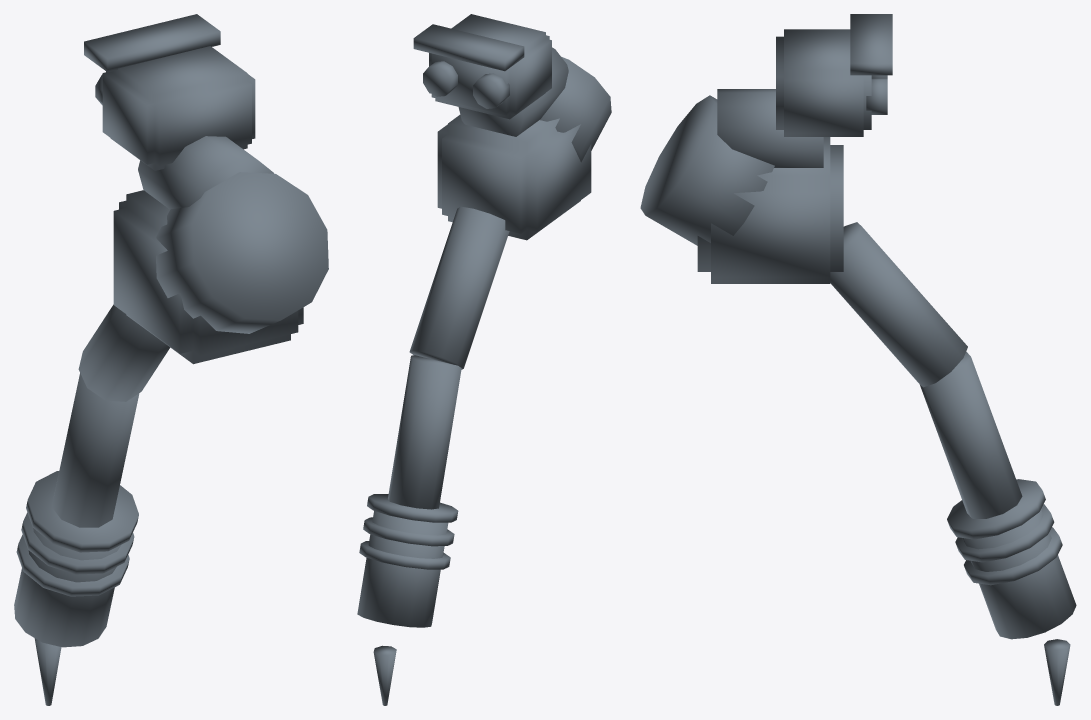
Rendered from repair_array_welder.glb.
The picture shows the model from 3 angles, left to right: view 1: azimuth 30°, elevation 25°; view 2: azimuth 150°, elevation 25°; view 3: azimuth 270°, elevation 25°; orthographic projection. The views are drawn at different scales.
Visible parts, largest first — view 1: repair_array_welder; view 2: repair_array_welder; view 3: repair_array_welder.
Part boxes in pixels (x1,y1,x2,y2): repair_array_welder: [14, 14, 328, 705]; repair_array_welder: [357, 14, 611, 705]; repair_array_welder: [640, 14, 1076, 705].
Bounding box in the file's own units: 0.052 × 0.2767 × 0.1642.
